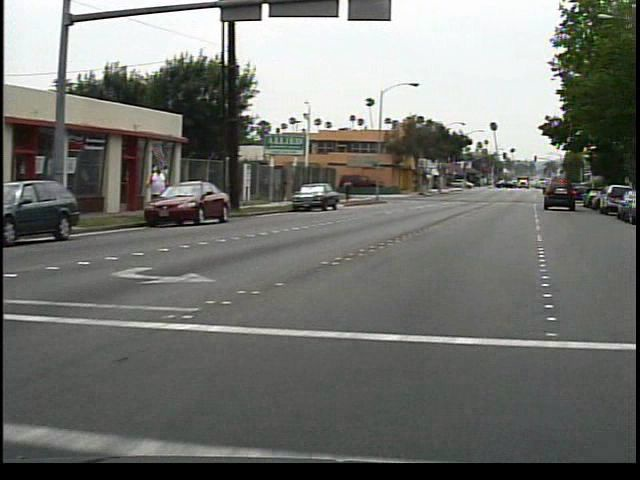person: (149, 158, 177, 220), (346, 174, 360, 203)
